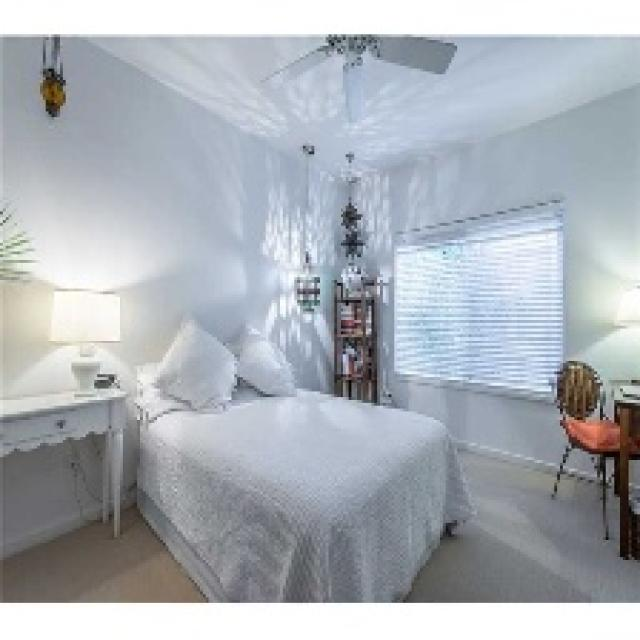Bed: (129, 360, 474, 600)
